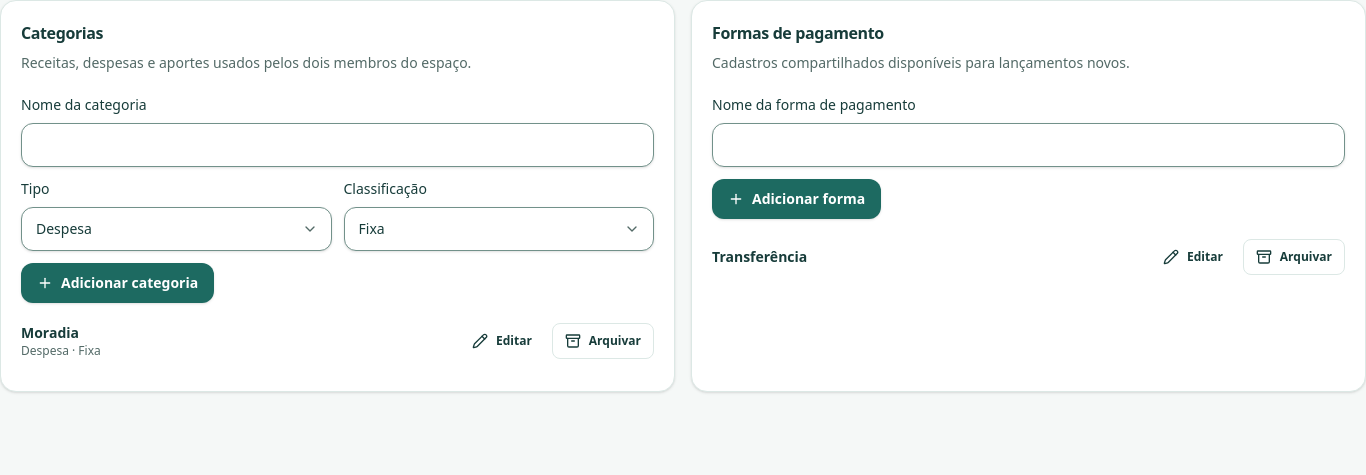
Scenario: shared catalog settings › lets a member create, edit, archive, and restore a category
Expected: the heading "Categorias" is shown, 21,22 -> 103,44
Type "Alimentação" into the field labelled "Nome da categoria". click: (338, 145)
box: 21,123 -> 654,167
Select "Variável" in the dropdown labelled "Classificação". click: (499, 229)
box: 344,207 -> 654,251
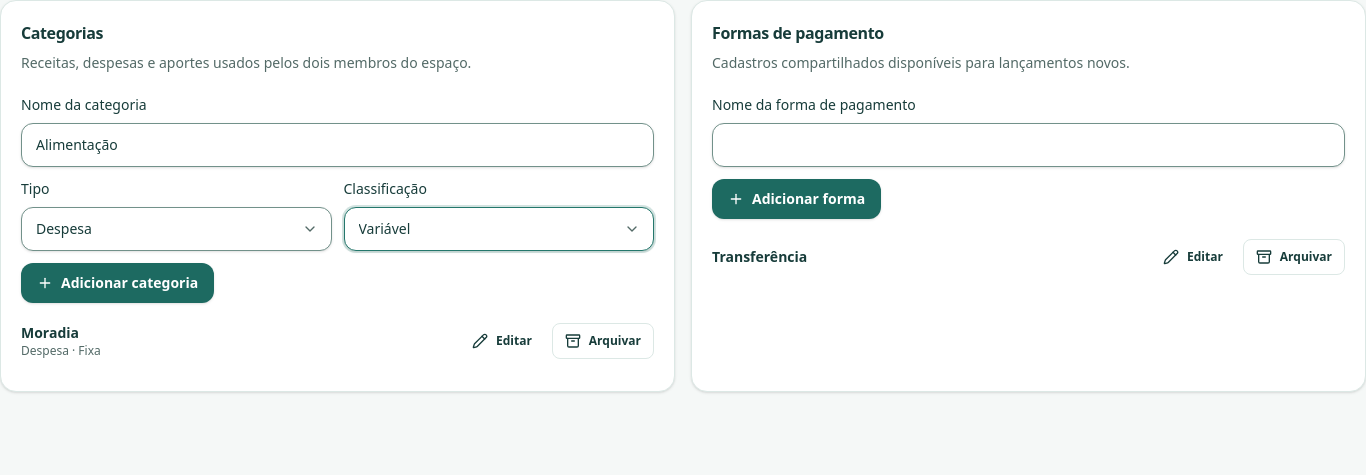
Click the button "Adicionar categoria". click: (118, 283)
box: 21,263 -> 214,303
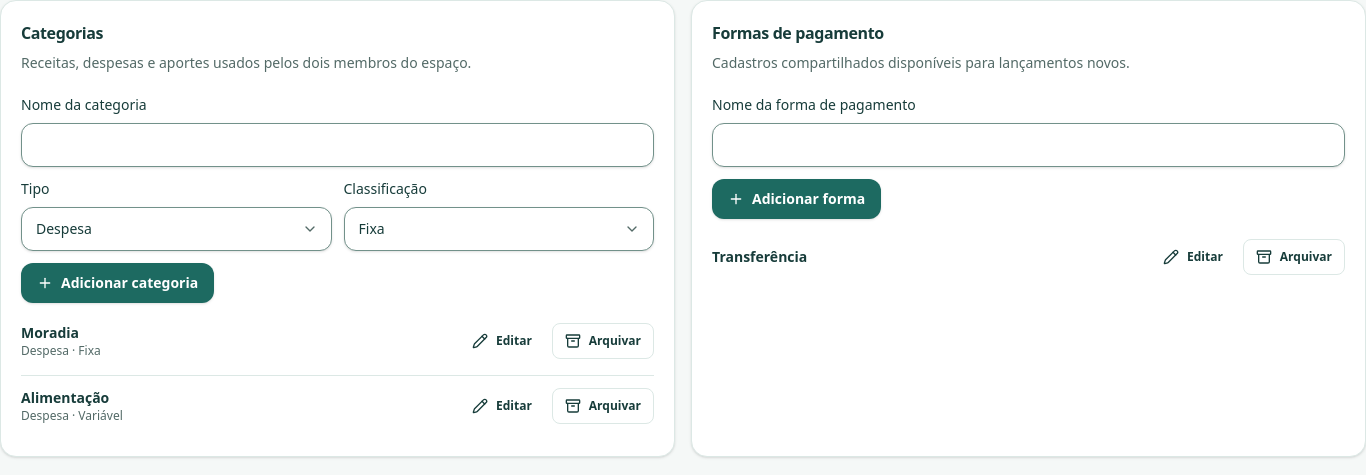
Now the text "Alimentação" is shown, box 21,388 -> 109,407
Click the button with aria-label "Editar categoria Alimentação". click: (502, 406)
box: 460,388 -> 544,424
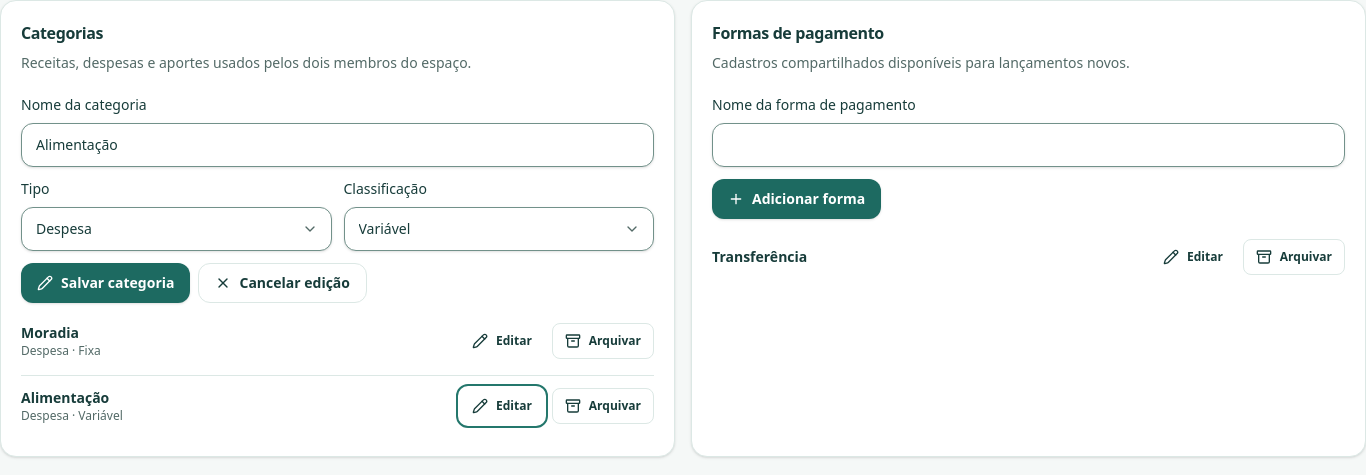
Replace the text in the field labelled "Nome da categoria" with "Mercado". click: (338, 145)
box: 21,123 -> 654,167
Click the button "Salvar categoria". click: (106, 283)
box: 21,263 -> 190,303
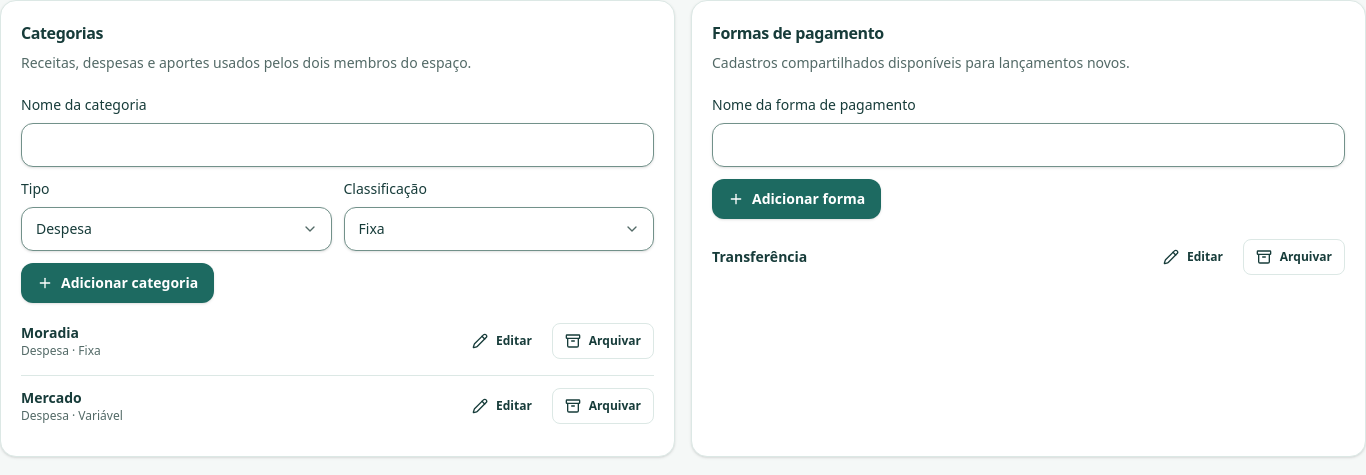
Now the text "Mercado" is shown, box 21,388 -> 82,407
Click the button with aria-label "Arquivar categoria Mercado". click: (603, 406)
box: 552,388 -> 654,424
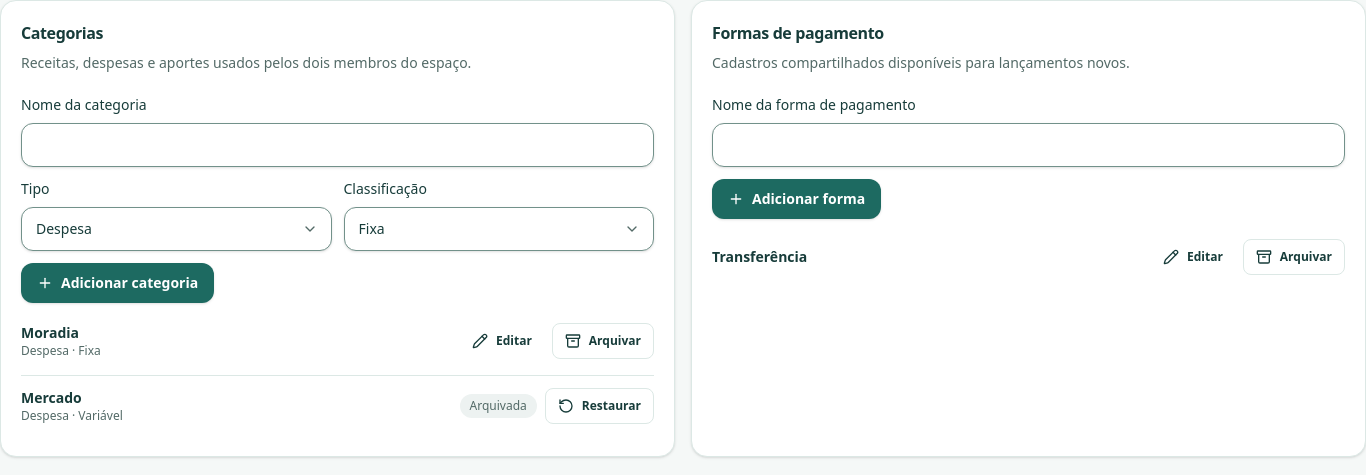
Now the text "Arquivada" is shown, box 460,394 -> 537,418
Now the button with aria-label "Restaurar categoria Mercado" is shown
Click the button with aria-label "Restaurar categoria Mercado". click: (599, 406)
box: 545,388 -> 654,424
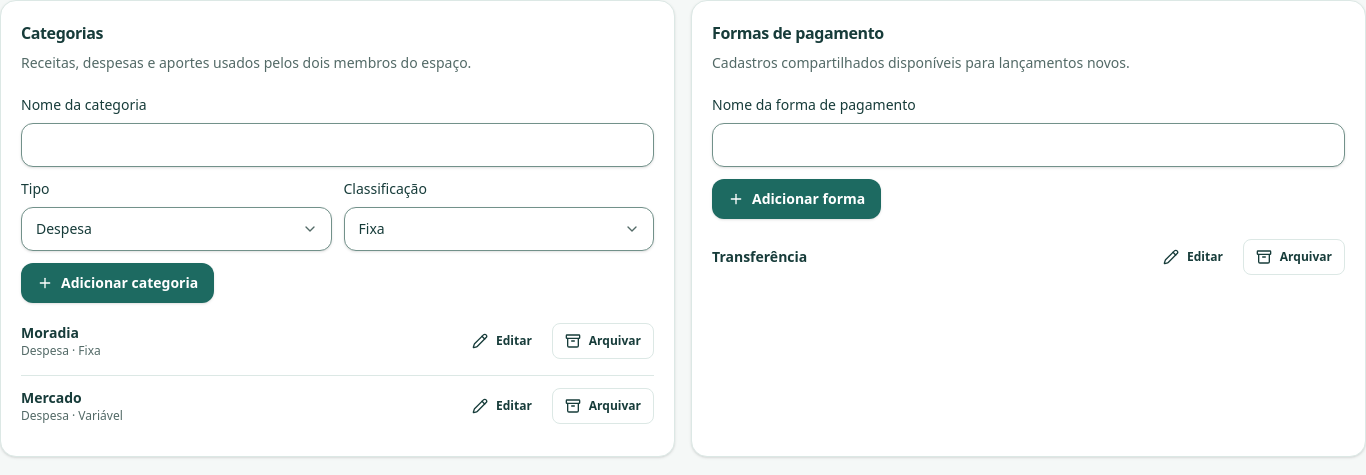
Now the button with aria-label "Arquivar categoria Mercado" is shown, box 552,388 -> 654,424
